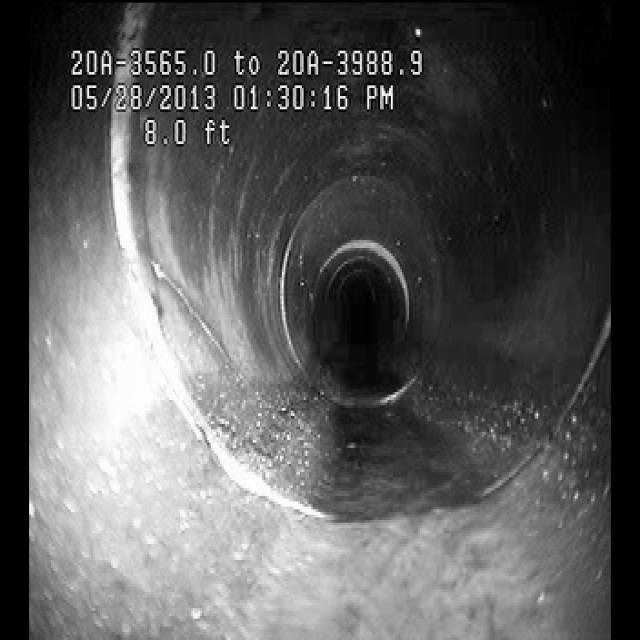Crack: (162, 241, 255, 407)
